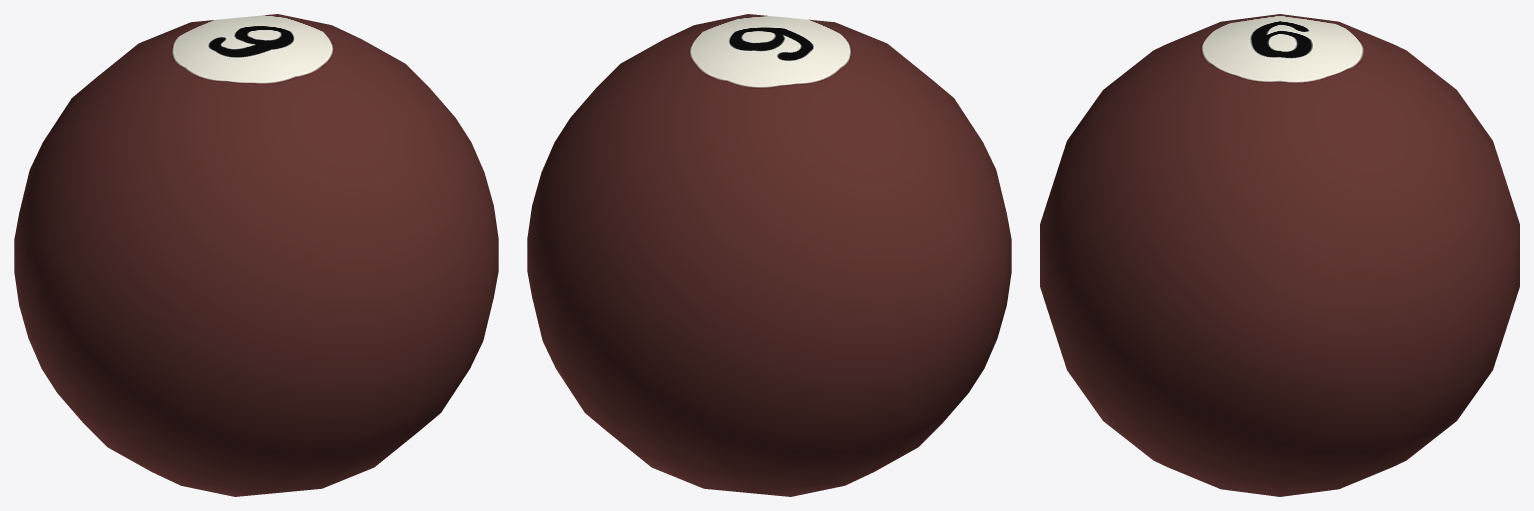
The model's file is Pool_Ball_06.fbx.
3 views of the same model, side by side, from view 1: azimuth 30°, elevation 25°; view 2: azimuth 150°, elevation 25°; view 3: azimuth 270°, elevation 25° (orthographic).
Visible parts, largest first — view 1: Pool_Ball_06; view 2: Pool_Ball_06; view 3: Pool_Ball_06.
Boxes of the visible parts, bbox=[...] form: Pool_Ball_06: bbox=[14, 14, 498, 496]; Pool_Ball_06: bbox=[527, 14, 1011, 496]; Pool_Ball_06: bbox=[1040, 14, 1519, 496].
Size of the model in its own units: 0.051 by 0.051 by 0.0505.
